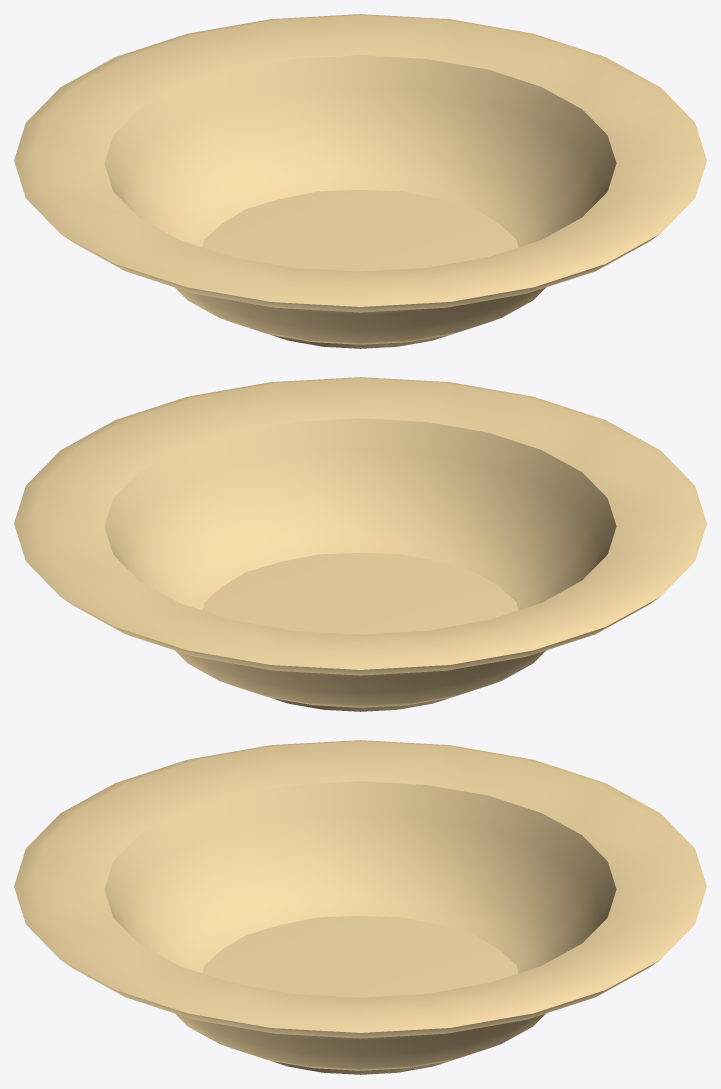
The model's file is SE_108_big_plate.glb.
3 renders of one model, top to bottom at view 1: azimuth 30°, elevation 25°; view 2: azimuth 150°, elevation 25°; view 3: azimuth 270°, elevation 25°, orthographic.
Parts seen in each view (by area): view 1: plate; view 2: plate; view 3: plate.
Part boxes in pixels (left/top/right/bottom): plate: left=14, top=14, right=706, bottom=348; plate: left=14, top=377, right=706, bottom=711; plate: left=14, top=740, right=706, bottom=1074.
Size of the model in its own units: 0.6978 by 0.1491 by 0.6978.
